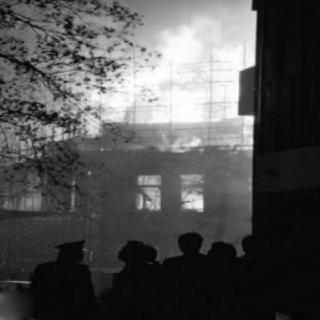Fire: (55, 32, 251, 144)
